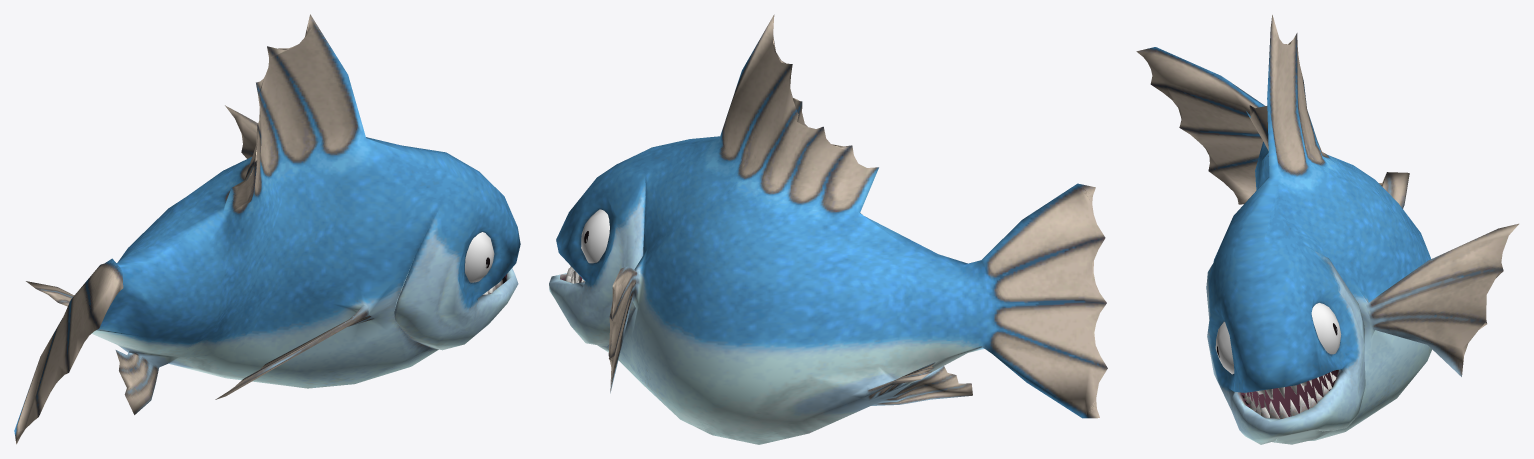
File: plushpiranha_static.fbx
3 renders of one model, left to right at view 1: azimuth 30°, elevation 25°; view 2: azimuth 150°, elevation 25°; view 3: azimuth 270°, elevation 25°, orthographic.
Visible parts, largest first — view 1: 7_0002-Ani004p1c01_0.1_16_16; view 2: 7_0002-Ani004p1c01_0.1_16_16; view 3: 7_0002-Ani004p1c01_0.1_16_16.
Boxes of the visible parts, x1,y1,x2,y2 form: 7_0002-Ani004p1c01_0.1_16_16: (14, 14, 520, 444); 7_0002-Ani004p1c01_0.1_16_16: (549, 14, 1107, 444); 7_0002-Ani004p1c01_0.1_16_16: (1136, 15, 1518, 444).
Bounding box in the file's own units: 0.5171 × 0.3736 × 0.3303.
